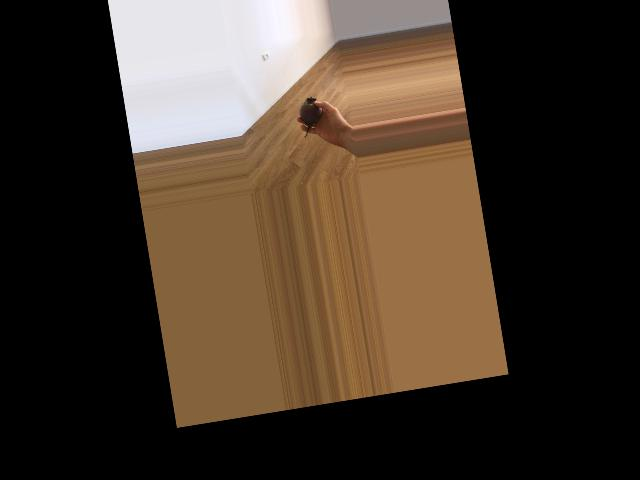beet: (296, 96, 325, 137)
